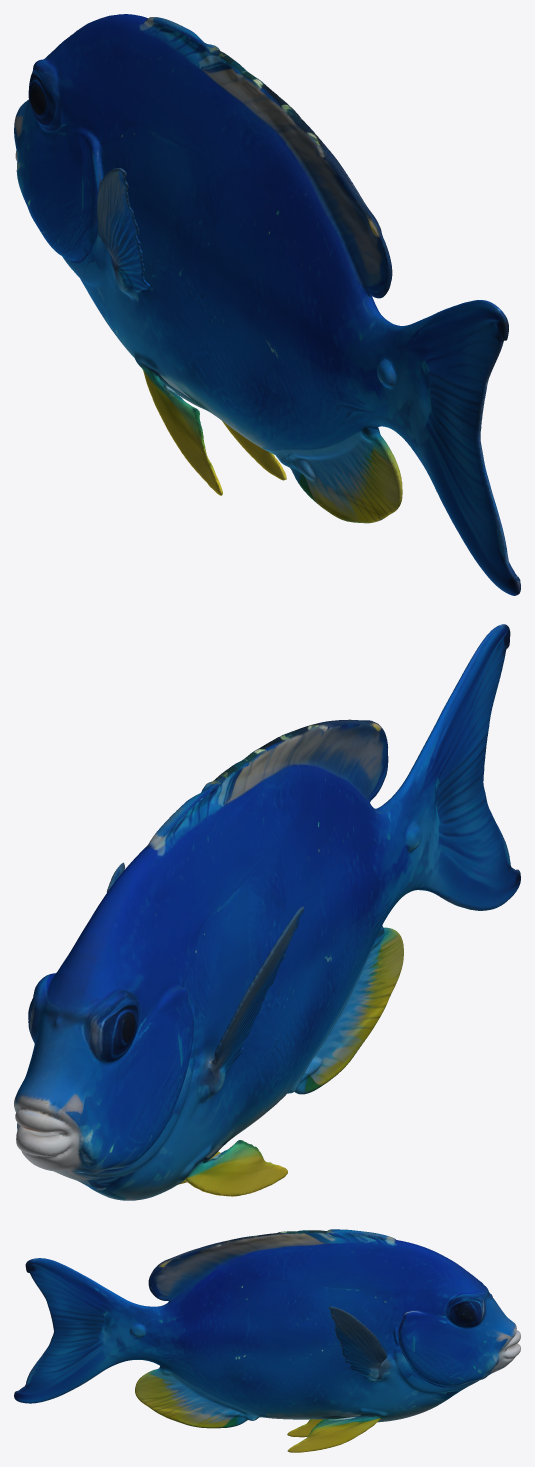
Rendered from trop_damsel.glb.
The picture shows the model from 3 angles, top to bottom: view 1: azimuth 30°, elevation 25°; view 2: azimuth 150°, elevation 25°; view 3: azimuth 270°, elevation 25°; orthographic projection. The views are drawn at different scales.
Parts seen in each view (by area): view 1: tripo_node_f54e2355-b322-467f-9470-3e8dbdaa5ac5; view 2: tripo_node_f54e2355-b322-467f-9470-3e8dbdaa5ac5; view 3: tripo_node_f54e2355-b322-467f-9470-3e8dbdaa5ac5.
Part boxes in pixels (<box>): tripo_node_f54e2355-b322-467f-9470-3e8dbdaa5ac5: <box>14,14,520,595</box>; tripo_node_f54e2355-b322-467f-9470-3e8dbdaa5ac5: <box>14,624,520,1200</box>; tripo_node_f54e2355-b322-467f-9470-3e8dbdaa5ac5: <box>14,1229,520,1452</box>.
Bounding box in the file's own units: 0.2139 × 0.4673 × 1.
Materials: 1 (1 with a texture image).
